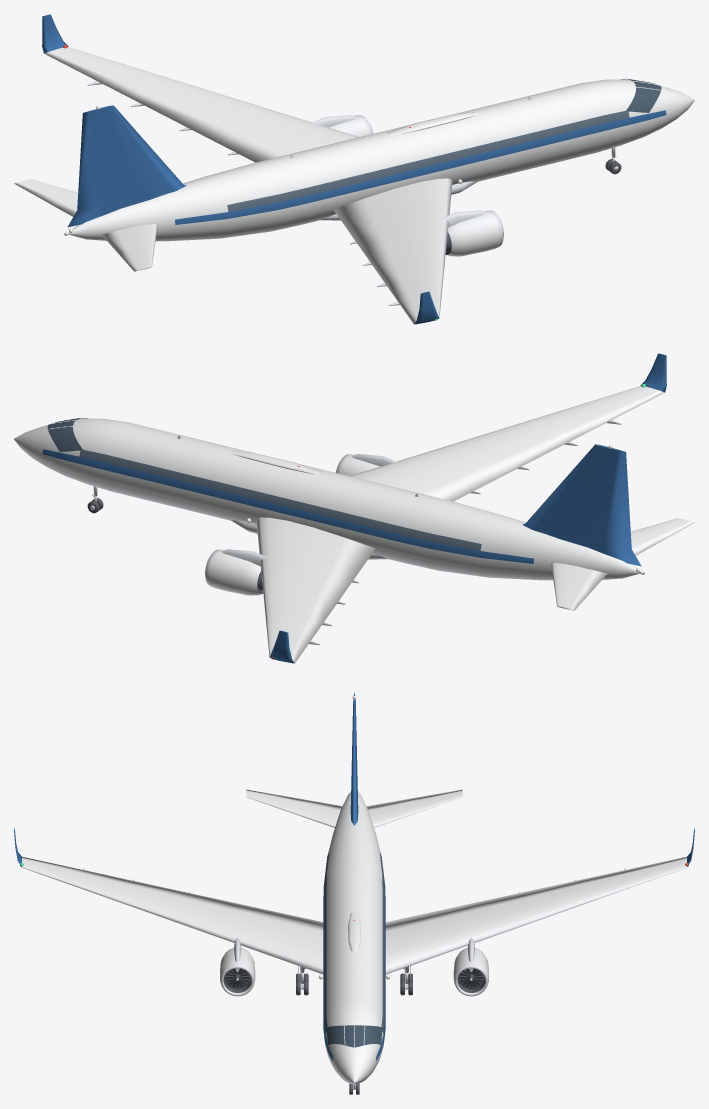
File: wide.glb
3 renders of one model, top to bottom at view 1: azimuth 30°, elevation 25°; view 2: azimuth 150°, elevation 25°; view 3: azimuth 270°, elevation 25°, orthographic. The views are drawn at different scales.
Parts seen in each view (by area): view 1: BodyMesh; view 2: BodyMesh; view 3: BodyMesh, Gear.
Part boxes in pixels (x1,y1,x2,y2): BodyMesh: [14, 14, 694, 324]; BodyMesh: [14, 353, 694, 663]; BodyMesh: [14, 692, 694, 1084]; Gear: [296, 966, 412, 1094].
Size of the model in its own units: 59.22 by 17.27 by 61.75.
